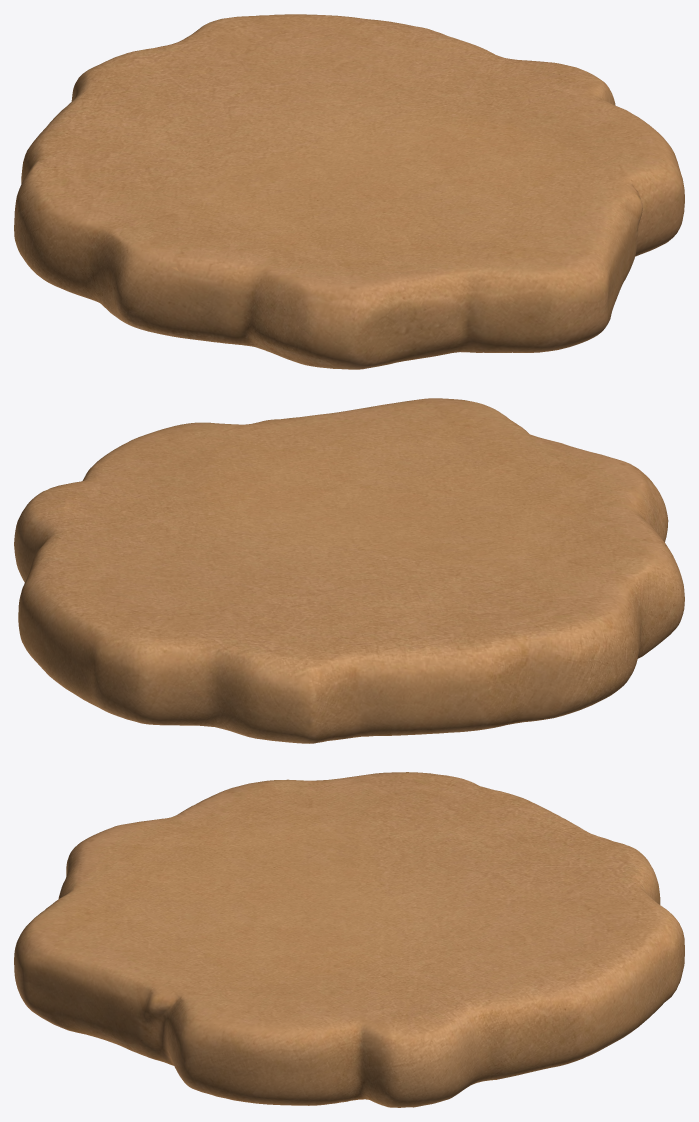
3 views of the same model, one above another, from view 1: azimuth 30°, elevation 25°; view 2: azimuth 150°, elevation 25°; view 3: azimuth 270°, elevation 25° (orthographic). The views are drawn at different scales.
Visible parts, largest first — view 1: garden-stone; view 2: garden-stone; view 3: garden-stone.
Part boxes in pixels (box(x1,y1,x2,y2)): garden-stone: box(14, 14, 684, 369); garden-stone: box(14, 398, 684, 743); garden-stone: box(14, 772, 684, 1107).
Bounding box in the file's own units: 0.476 × 0.0766 × 0.4998.
Materials: 1 (1 with a texture image).
